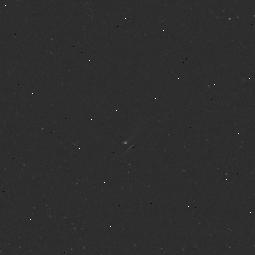proba_3_ocs: (76, 96, 155, 152)
